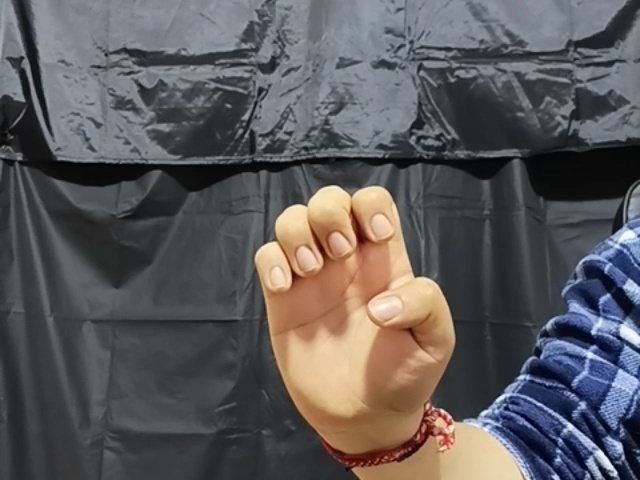E: (249, 181, 457, 446)
